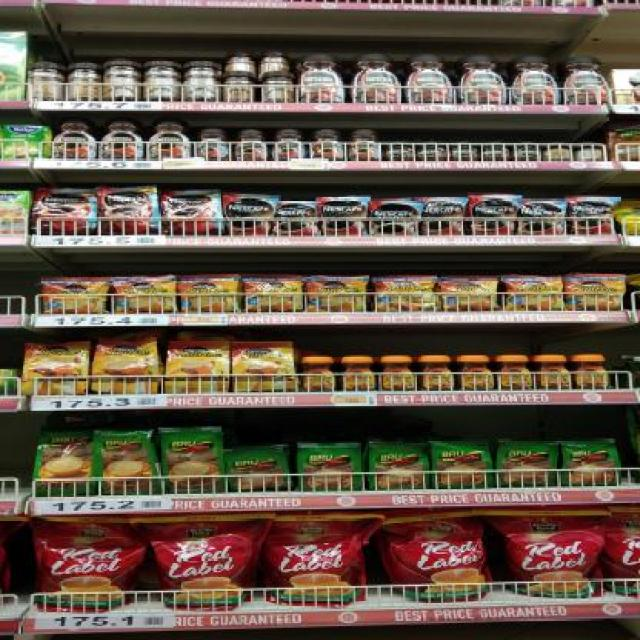Coffee: (94, 339, 158, 393), (165, 341, 229, 393), (24, 343, 88, 394), (234, 342, 295, 392), (35, 188, 97, 235), (102, 190, 158, 236), (164, 190, 220, 236), (511, 53, 561, 104), (350, 54, 402, 103), (406, 54, 456, 104), (42, 277, 107, 314), (296, 52, 344, 102), (461, 53, 507, 104), (566, 54, 612, 104), (179, 276, 239, 312), (114, 276, 174, 312), (244, 277, 302, 312), (441, 277, 499, 311), (376, 278, 436, 310), (508, 276, 564, 310), (568, 276, 624, 310), (309, 277, 365, 311), (50, 118, 96, 159), (150, 117, 193, 160), (224, 196, 270, 236), (101, 118, 145, 159), (469, 198, 516, 236), (370, 200, 419, 236), (570, 197, 615, 234), (323, 198, 365, 236), (422, 199, 466, 235), (521, 200, 565, 235), (276, 201, 319, 236), (299, 356, 335, 392), (339, 357, 375, 391), (576, 354, 610, 389), (536, 355, 570, 390), (419, 355, 453, 390), (458, 356, 493, 390), (381, 356, 414, 392), (497, 356, 531, 390), (312, 128, 346, 160), (236, 128, 269, 160), (350, 128, 382, 161), (273, 128, 305, 160), (199, 129, 230, 160), (386, 142, 416, 160), (513, 142, 542, 160), (484, 142, 511, 161), (419, 142, 447, 160), (451, 143, 480, 160)
